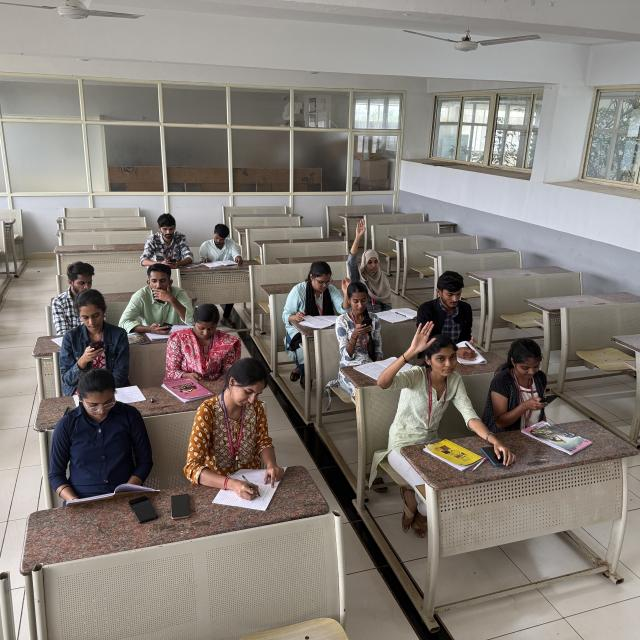Hand Rising: (370, 312, 462, 465), (332, 196, 404, 316)
Reading: (49, 374, 156, 498), (290, 247, 346, 359), (190, 213, 257, 280)
Using Phone: (122, 297, 246, 387), (480, 329, 577, 428), (55, 287, 138, 387), (332, 276, 396, 377), (130, 254, 191, 345), (146, 205, 201, 275)
Writing: (185, 361, 292, 509), (439, 269, 490, 373)
